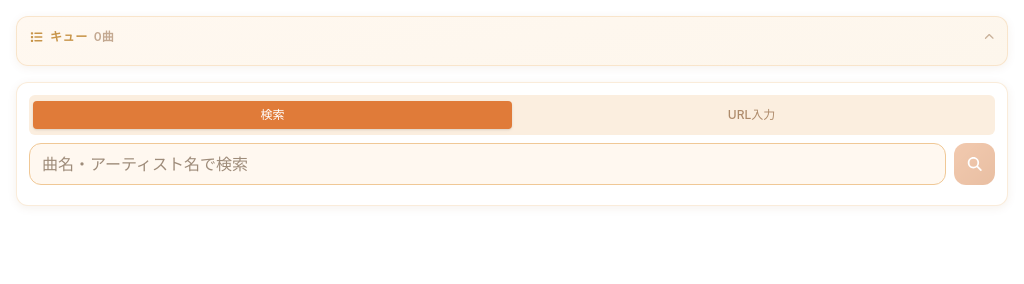
Test: MusicPanel › URL入力タブ › 取得済みタイトルを表示する
Step 1. Click the tab "URL入力" → click(752, 115), box [512,101,991,129]
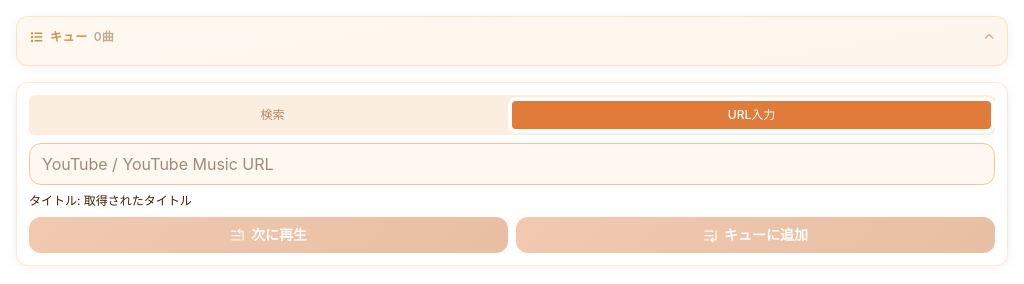
Check: the text "タイトル: 取得されたタイトル" is shown, box [29,193,192,208]
